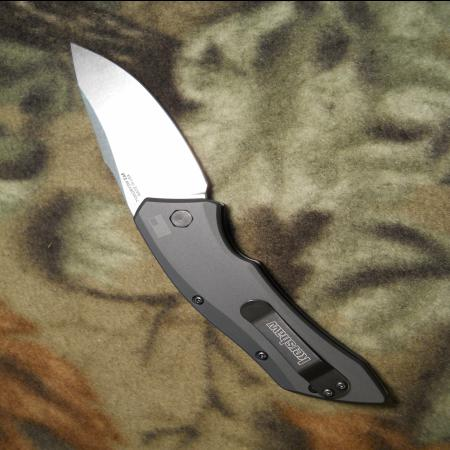long weapon: (59, 26, 218, 241)
